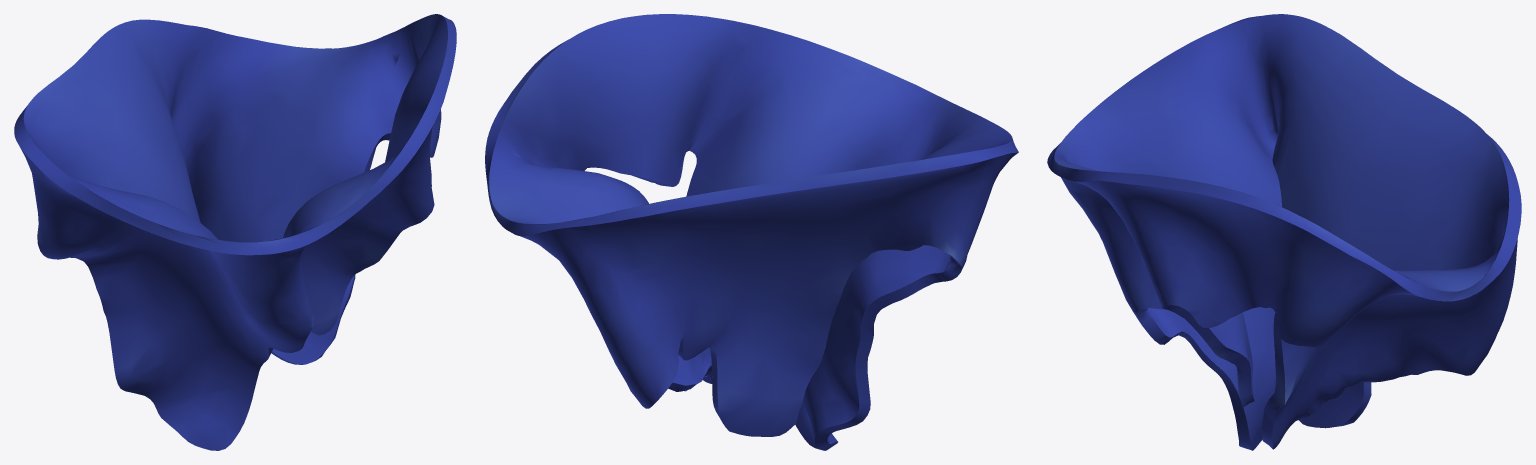
3 renders of one model, left to right at view 1: azimuth 30°, elevation 25°; view 2: azimuth 150°, elevation 25°; view 3: azimuth 270°, elevation 25°, orthographic.
Parts seen in each view (by area): view 1: OCS14_maxS_20; view 2: OCS14_maxS_20; view 3: OCS14_maxS_20.
Part boxes in pixels (<box>): OCS14_maxS_20: <box>14,14,456,450</box>; OCS14_maxS_20: <box>485,14,1018,450</box>; OCS14_maxS_20: <box>1047,14,1521,450</box>.
Size of the model in its own units: 1.46 by 1.13 by 1.32.
